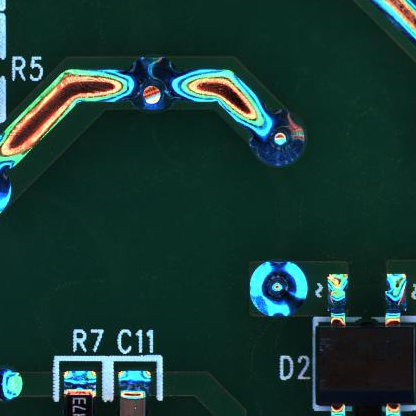spot: (250, 259, 310, 319), (251, 111, 306, 170), (128, 55, 180, 113)
